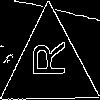R: (24, 40, 66, 78)
